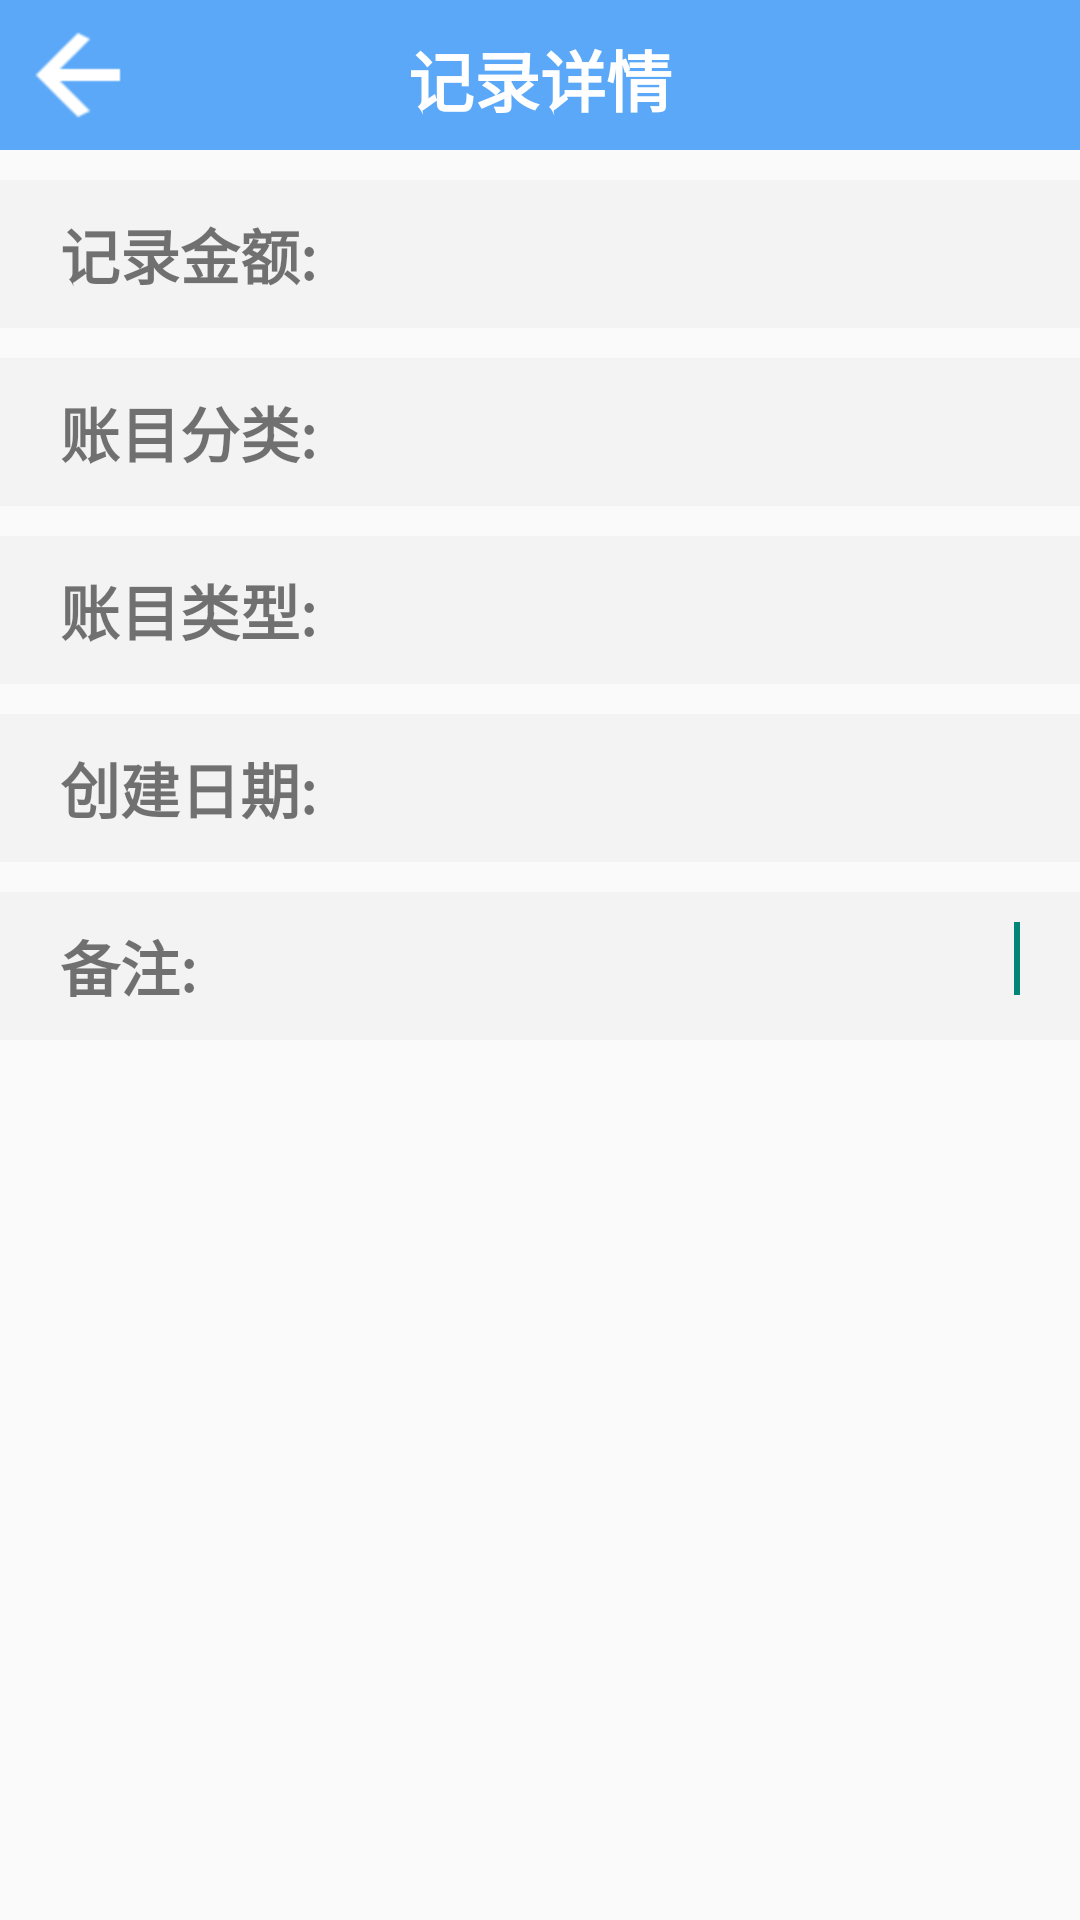

Where icons sit on this 1080×1920 app screen, as box=[x1, y1, x2, y2]:
back: box=[36, 32, 121, 118]
